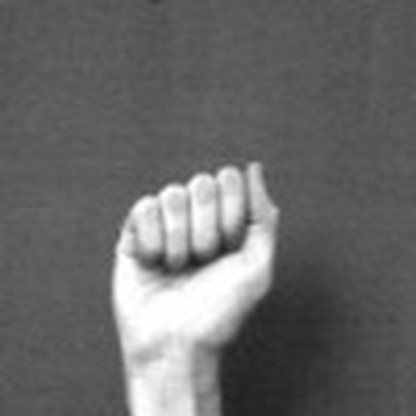a: (89, 154, 317, 412)
